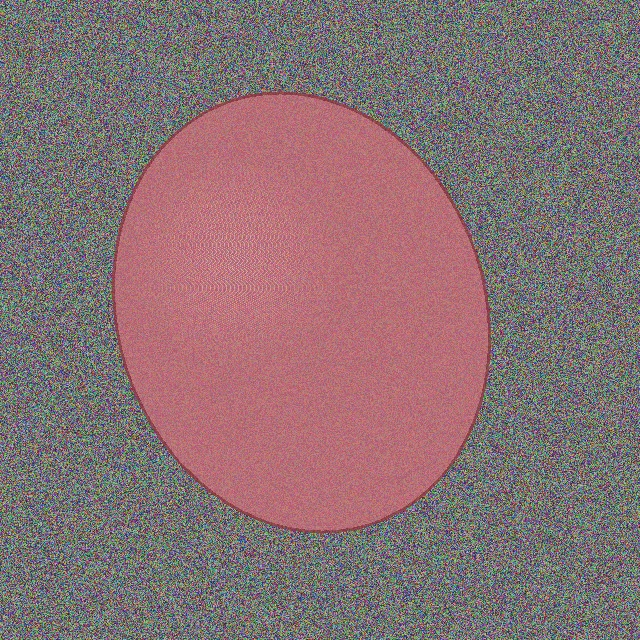lens: (114, 92, 488, 532)
